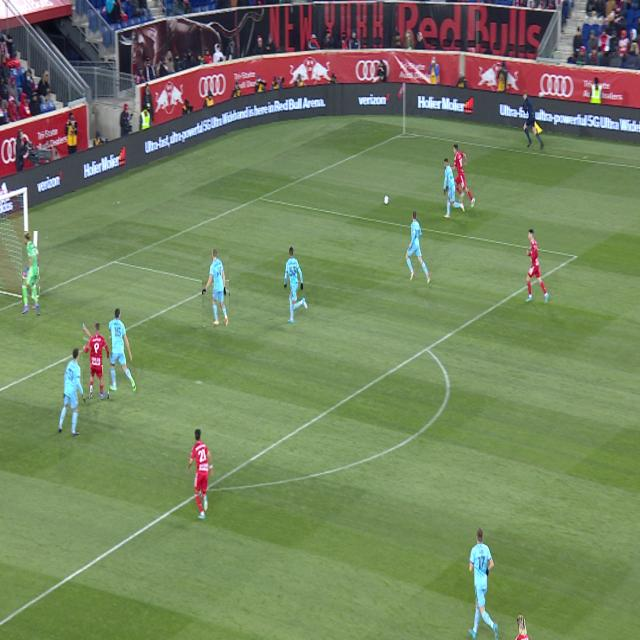football: (384, 195, 389, 204)
goalkeeper: (23, 232, 39, 314)
player: (97, 308, 136, 391), (469, 529, 498, 640), (187, 430, 213, 520), (59, 349, 85, 435), (202, 250, 229, 326), (83, 324, 109, 399), (284, 247, 307, 323), (447, 145, 475, 207), (406, 211, 430, 283), (526, 230, 549, 302), (444, 159, 465, 218), (515, 615, 529, 640)
